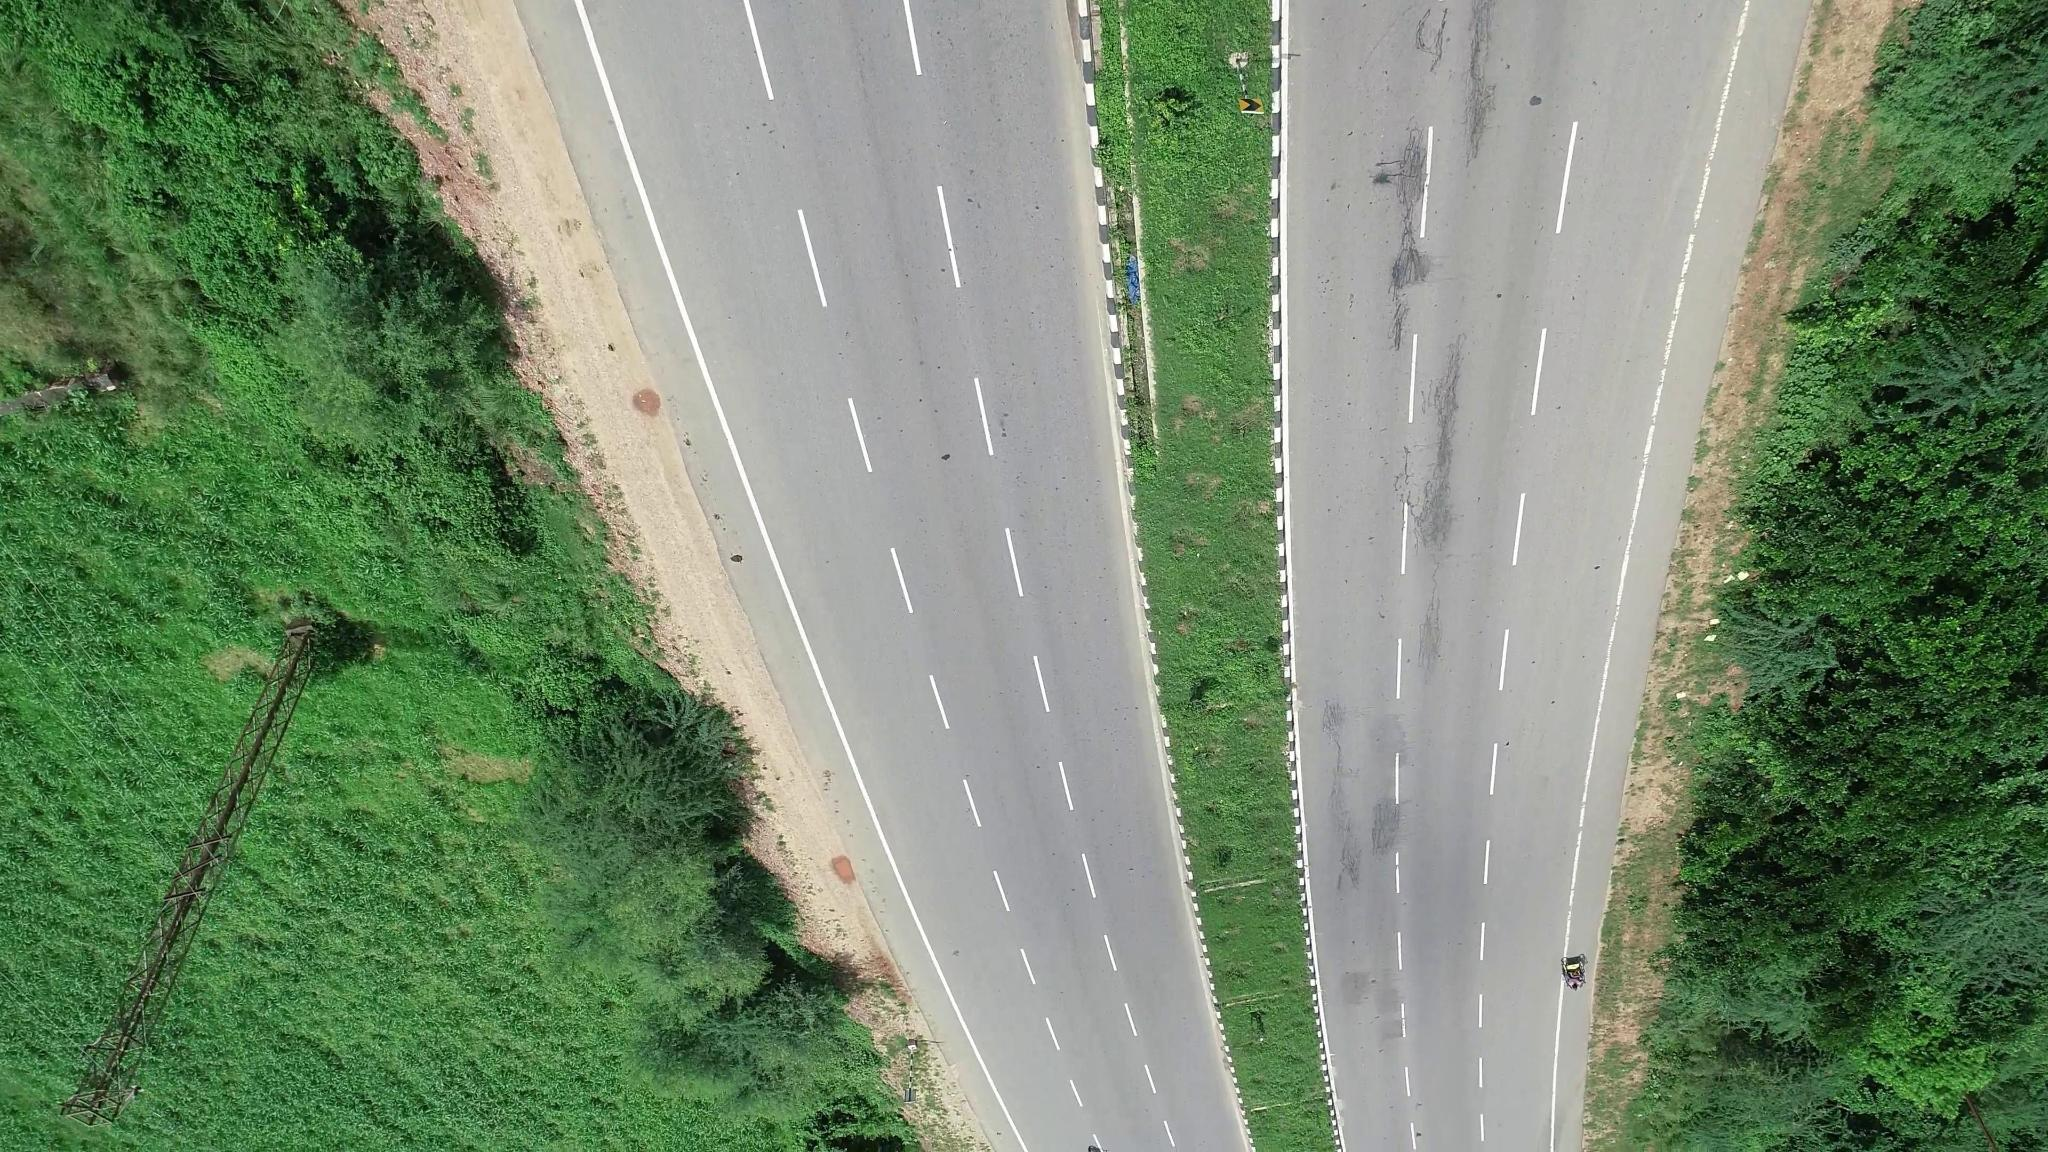Cracks: (1376, 115, 1440, 354), (1407, 354, 1466, 556), (1322, 706, 1373, 882)
